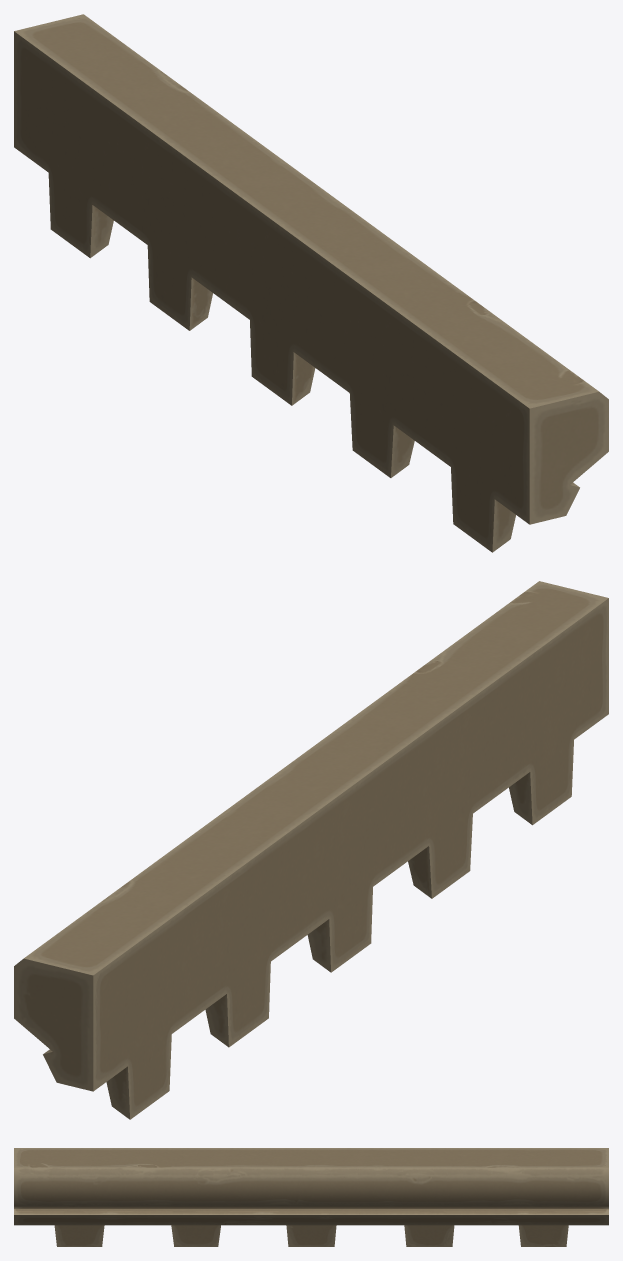
Rendered from ARC0510061.fbx.
3 renders of one model, top to bottom at view 1: azimuth 30°, elevation 25°; view 2: azimuth 150°, elevation 25°; view 3: azimuth 270°, elevation 25°, orthographic. The views are drawn at different scales.
Visible parts, largest first — view 1: smARC0510061; view 2: smARC0510061; view 3: smARC0510061.
Boxes of the visible parts, x1,y1,x2,y2 form: smARC0510061: [14, 14, 608, 552]; smARC0510061: [14, 581, 608, 1119]; smARC0510061: [14, 1148, 608, 1246].
Size of the model in its own units: 26.64 by 55 by 300.
1 material, 1 textured.
